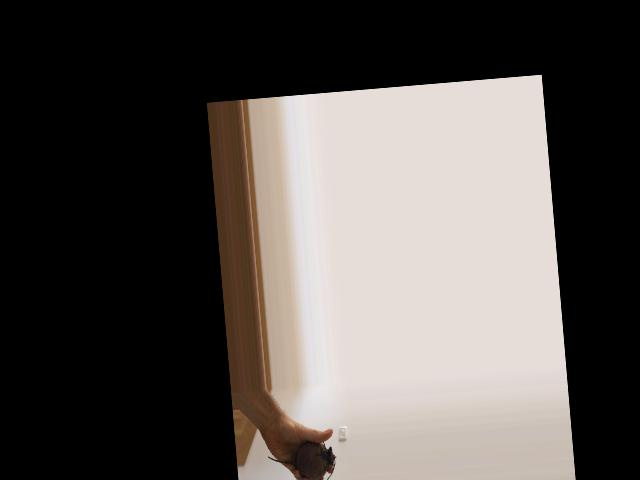beet: (266, 440, 338, 480)
